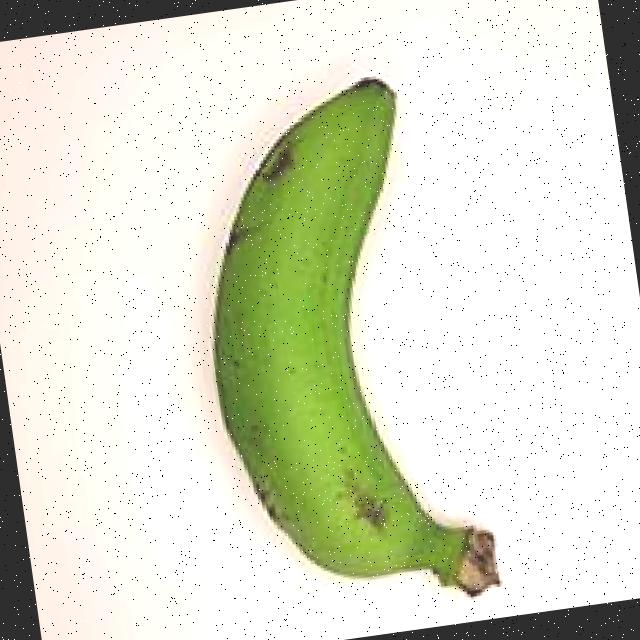Raw: (120, 39, 558, 640)
